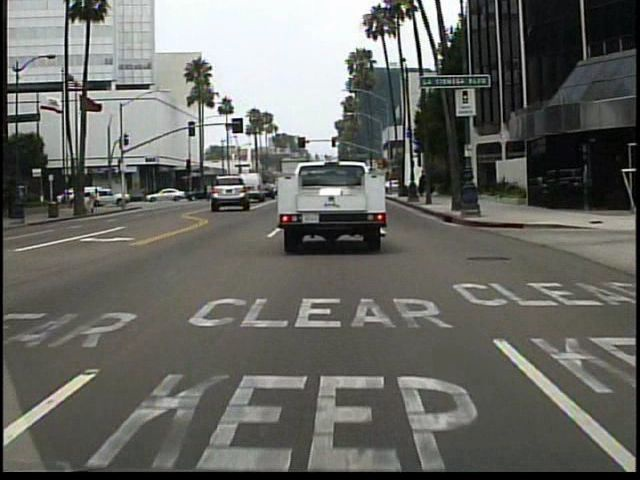person: (93, 187, 106, 214)
